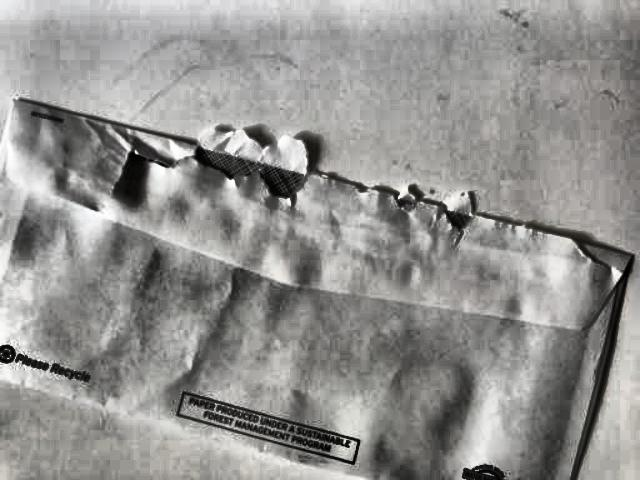Paper: (0, 37, 640, 480)
